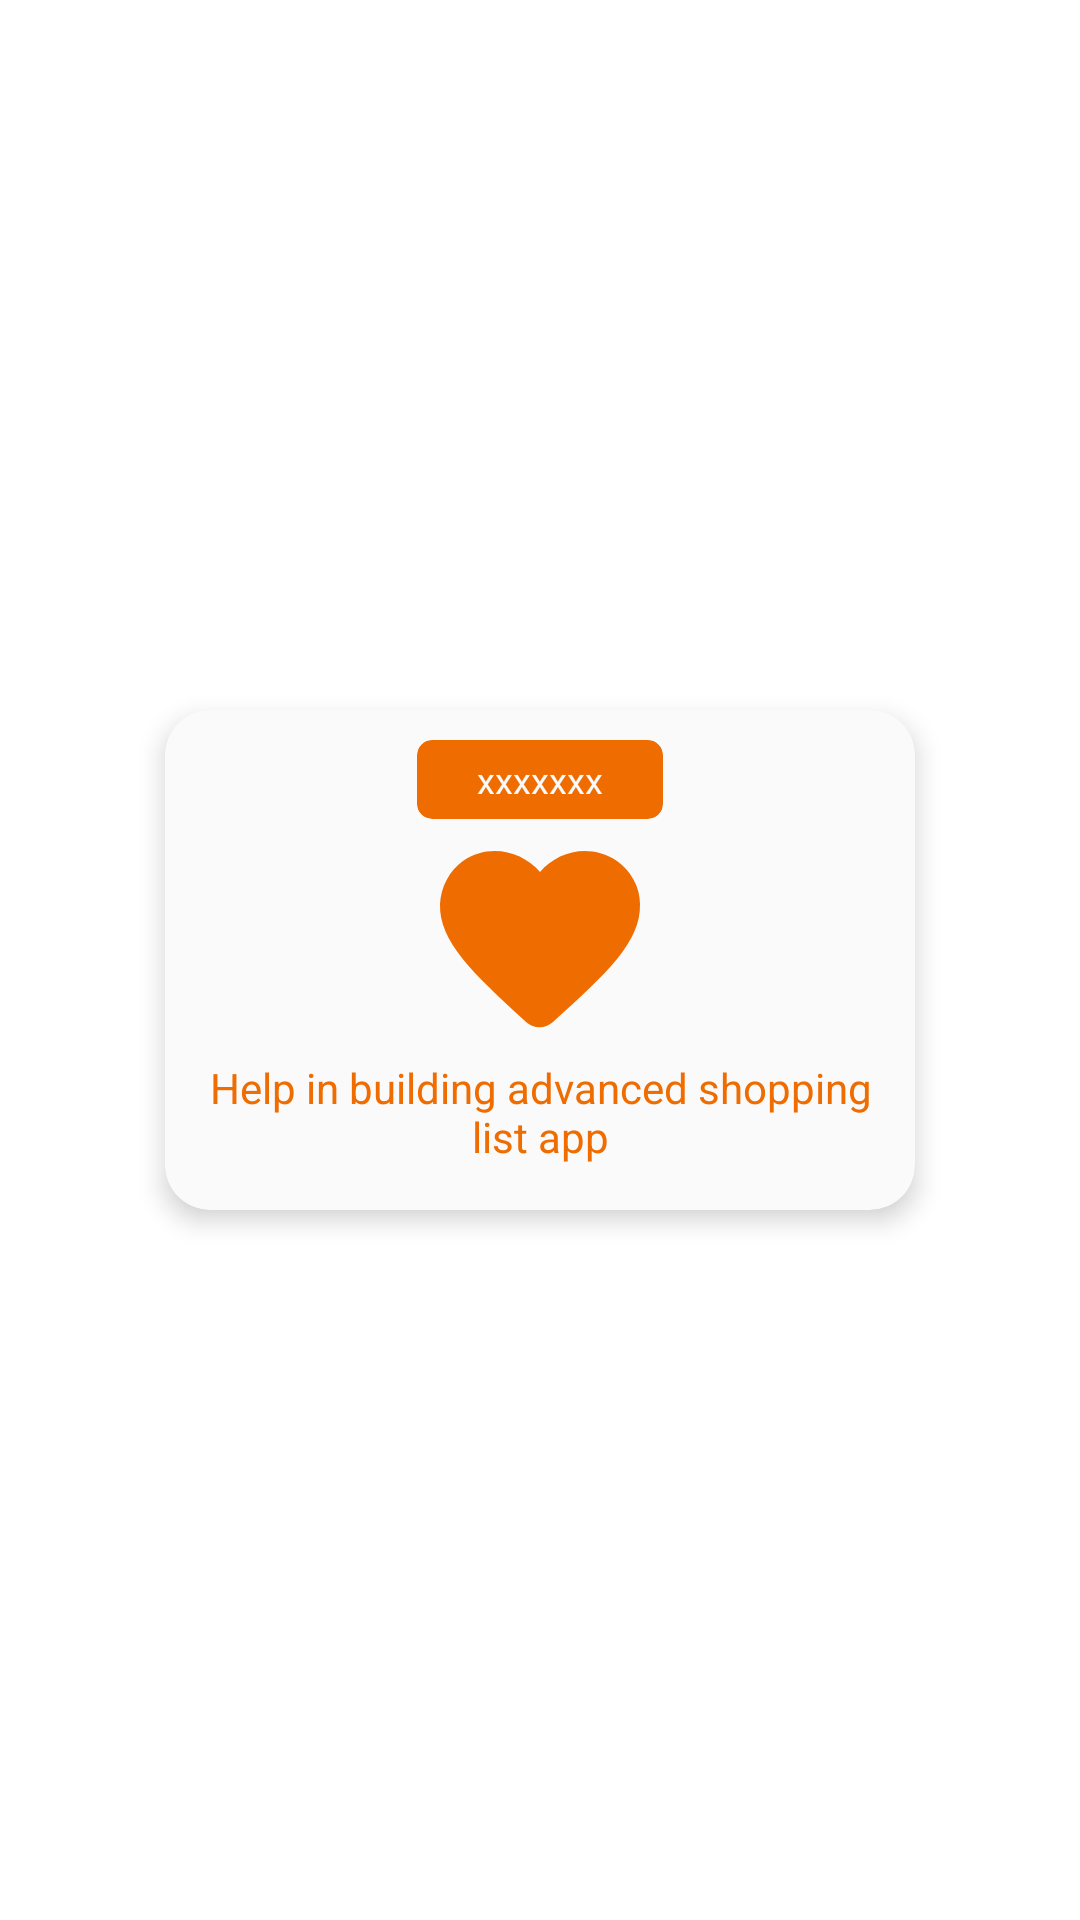

Where icons sit on this 1080 × 1920 app screen, as (x1, y1, x2, y2):
support: (440, 851, 640, 1028)
